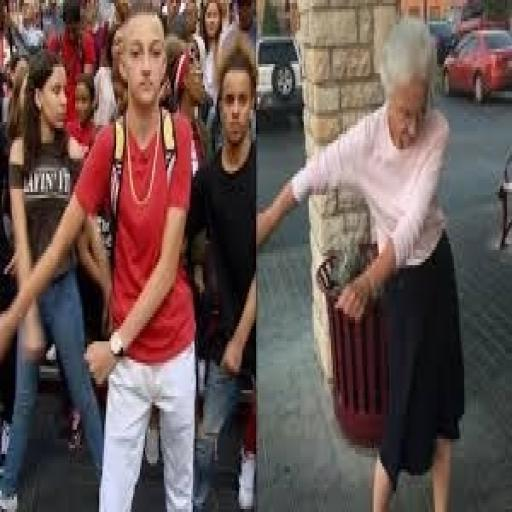dancing: (254, 12, 468, 509), (0, 3, 200, 509)
